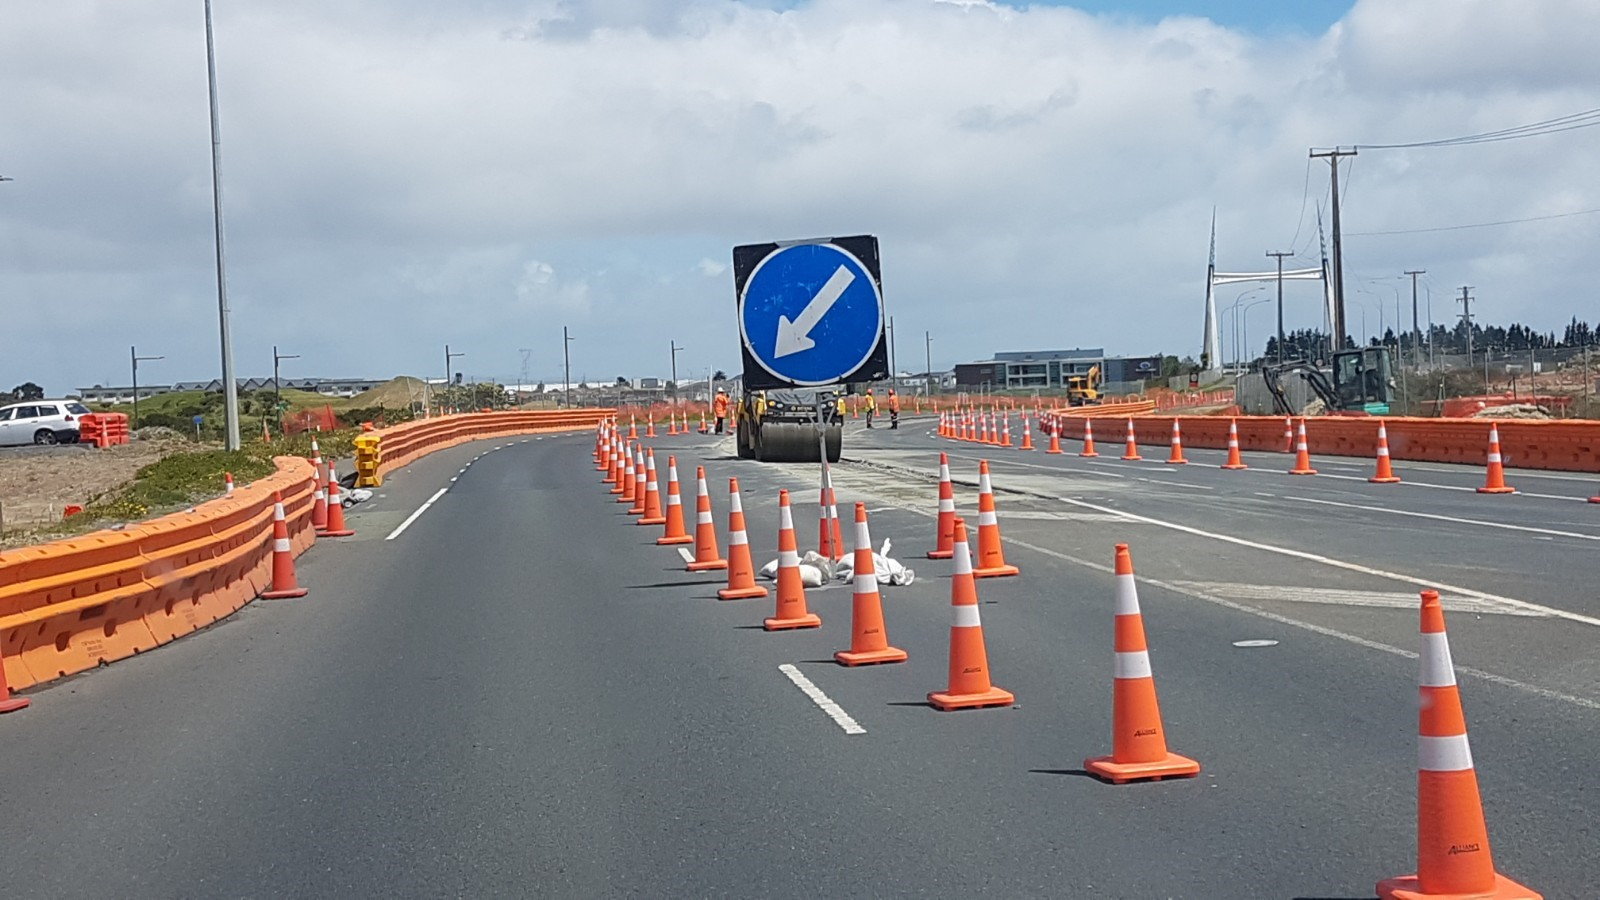cone: (1357, 579, 1542, 900), (1077, 544, 1202, 792), (919, 519, 1027, 716), (827, 502, 907, 671), (757, 488, 821, 631), (708, 476, 768, 610), (962, 457, 1023, 587), (252, 491, 314, 595), (681, 470, 727, 571), (1474, 416, 1520, 500), (314, 460, 357, 540), (654, 456, 692, 544), (925, 452, 962, 543), (1362, 416, 1402, 484), (1214, 414, 1254, 471), (1155, 412, 1197, 466), (635, 447, 664, 519), (1284, 418, 1316, 479), (1075, 413, 1101, 456), (1115, 416, 1146, 452), (1014, 419, 1038, 451), (997, 411, 1016, 447), (1043, 419, 1064, 451)
